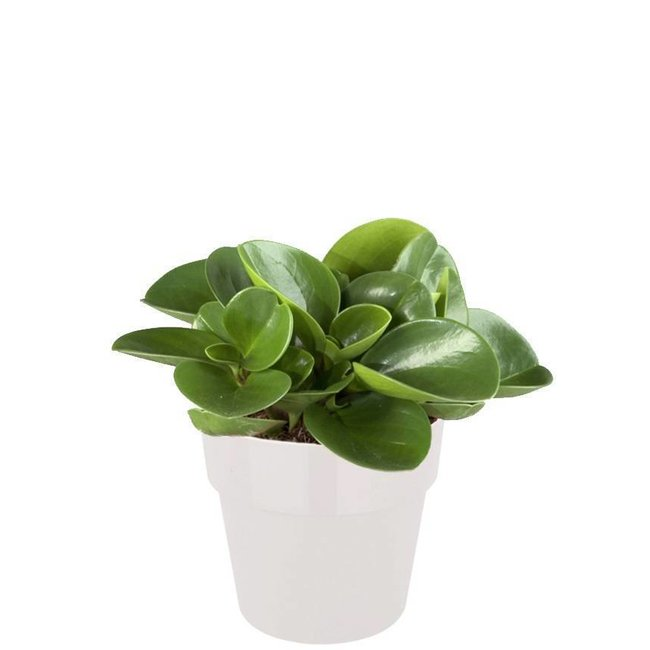plant: (110, 219, 556, 643)
